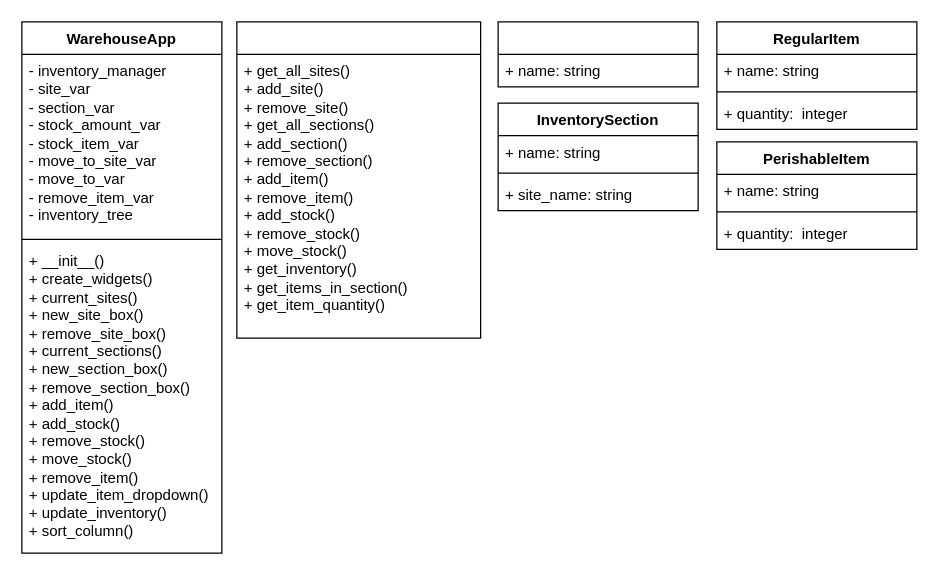
This 939x579 diagram has some shape labels left out. The box of each missing label's shape, as (x1, y1, x2, y2) in pixels:
InventoryManager: (236, 21, 481, 338)
InventorySite: (497, 21, 698, 87)
